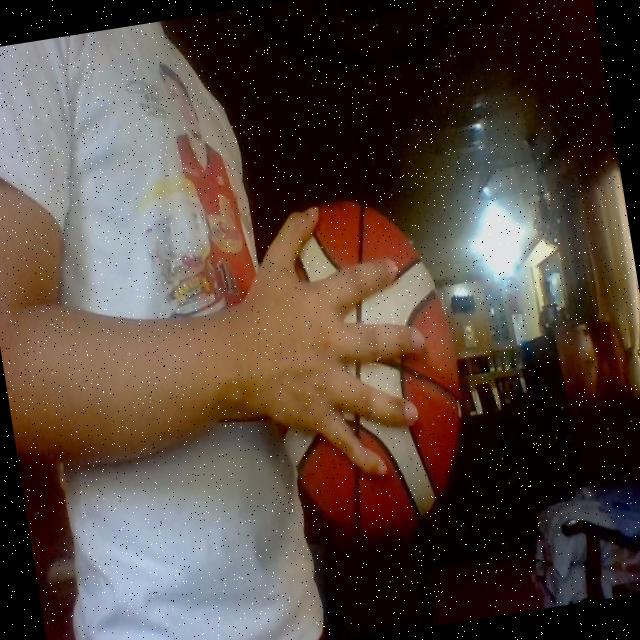ball: (273, 199, 459, 532)
